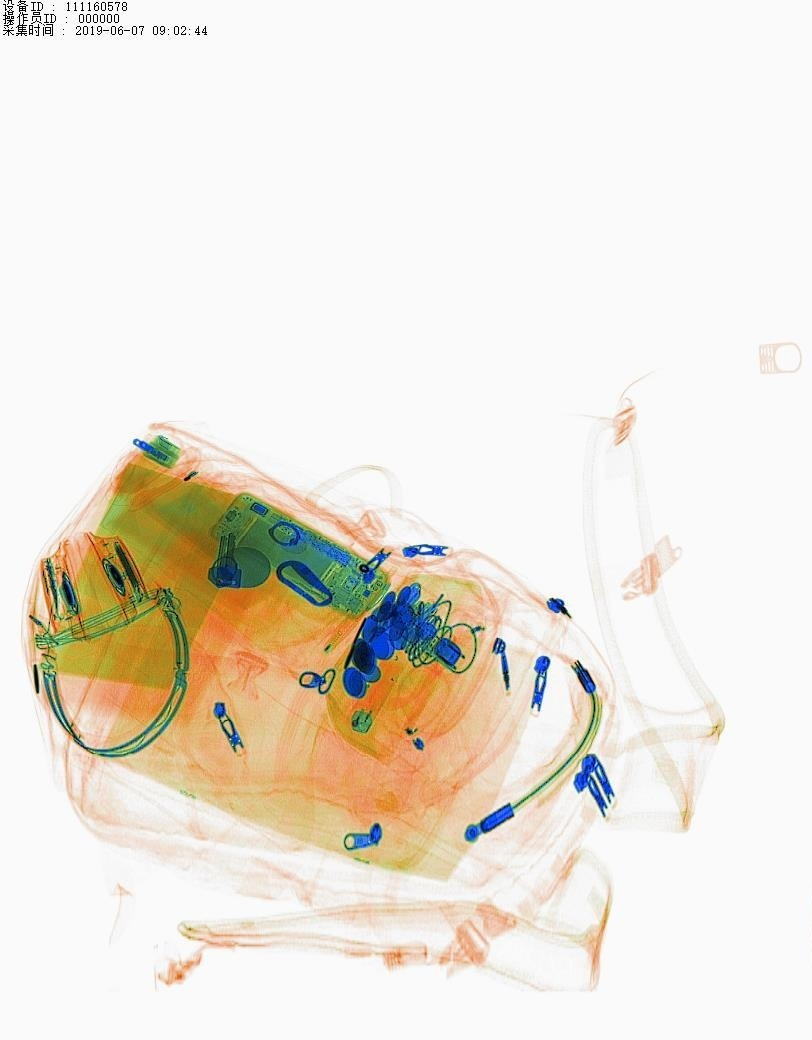NonmetallicFire: (336, 639, 431, 753)
